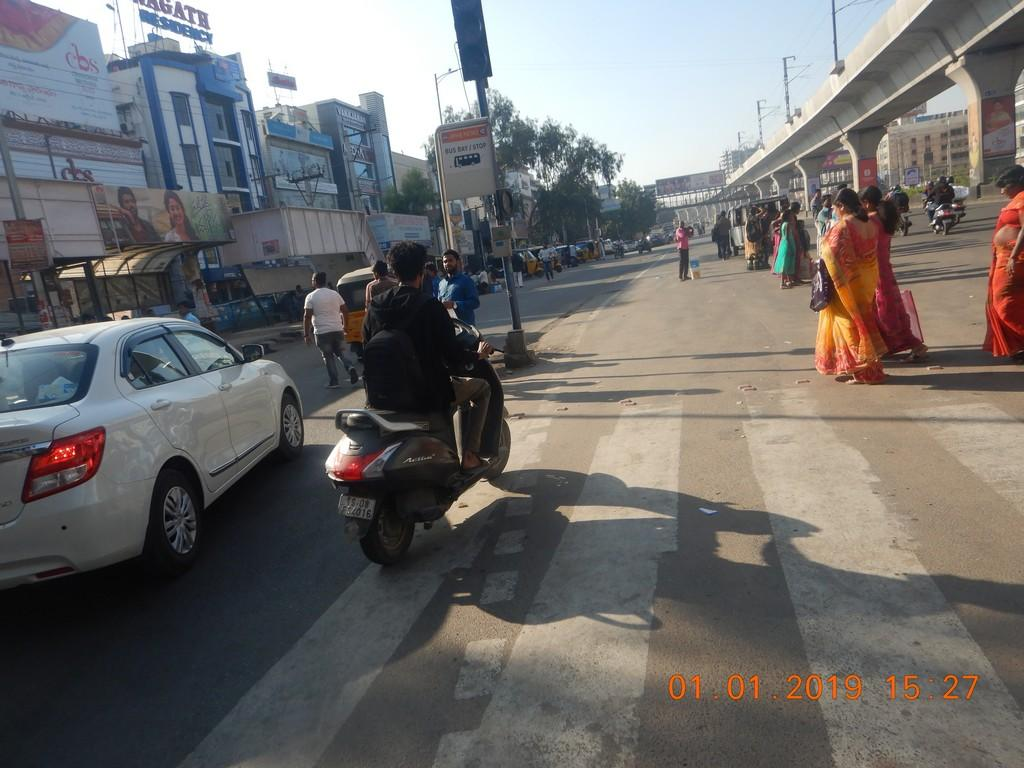plate: (337, 494, 376, 522)
